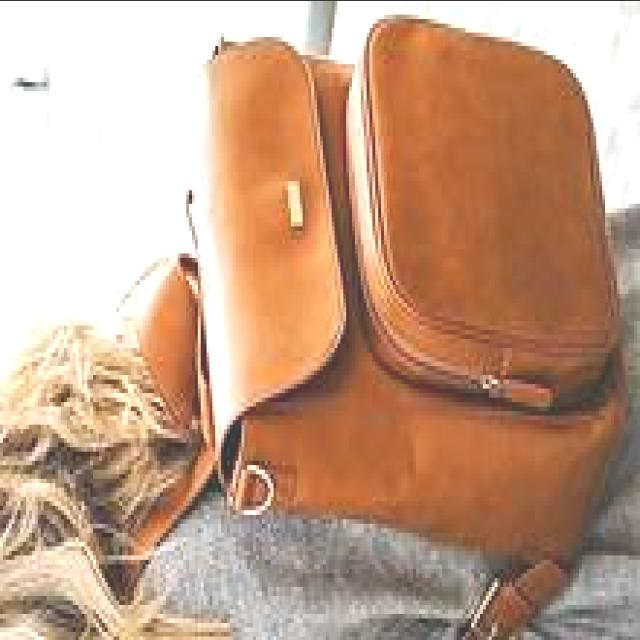backpack: (193, 17, 629, 547)
